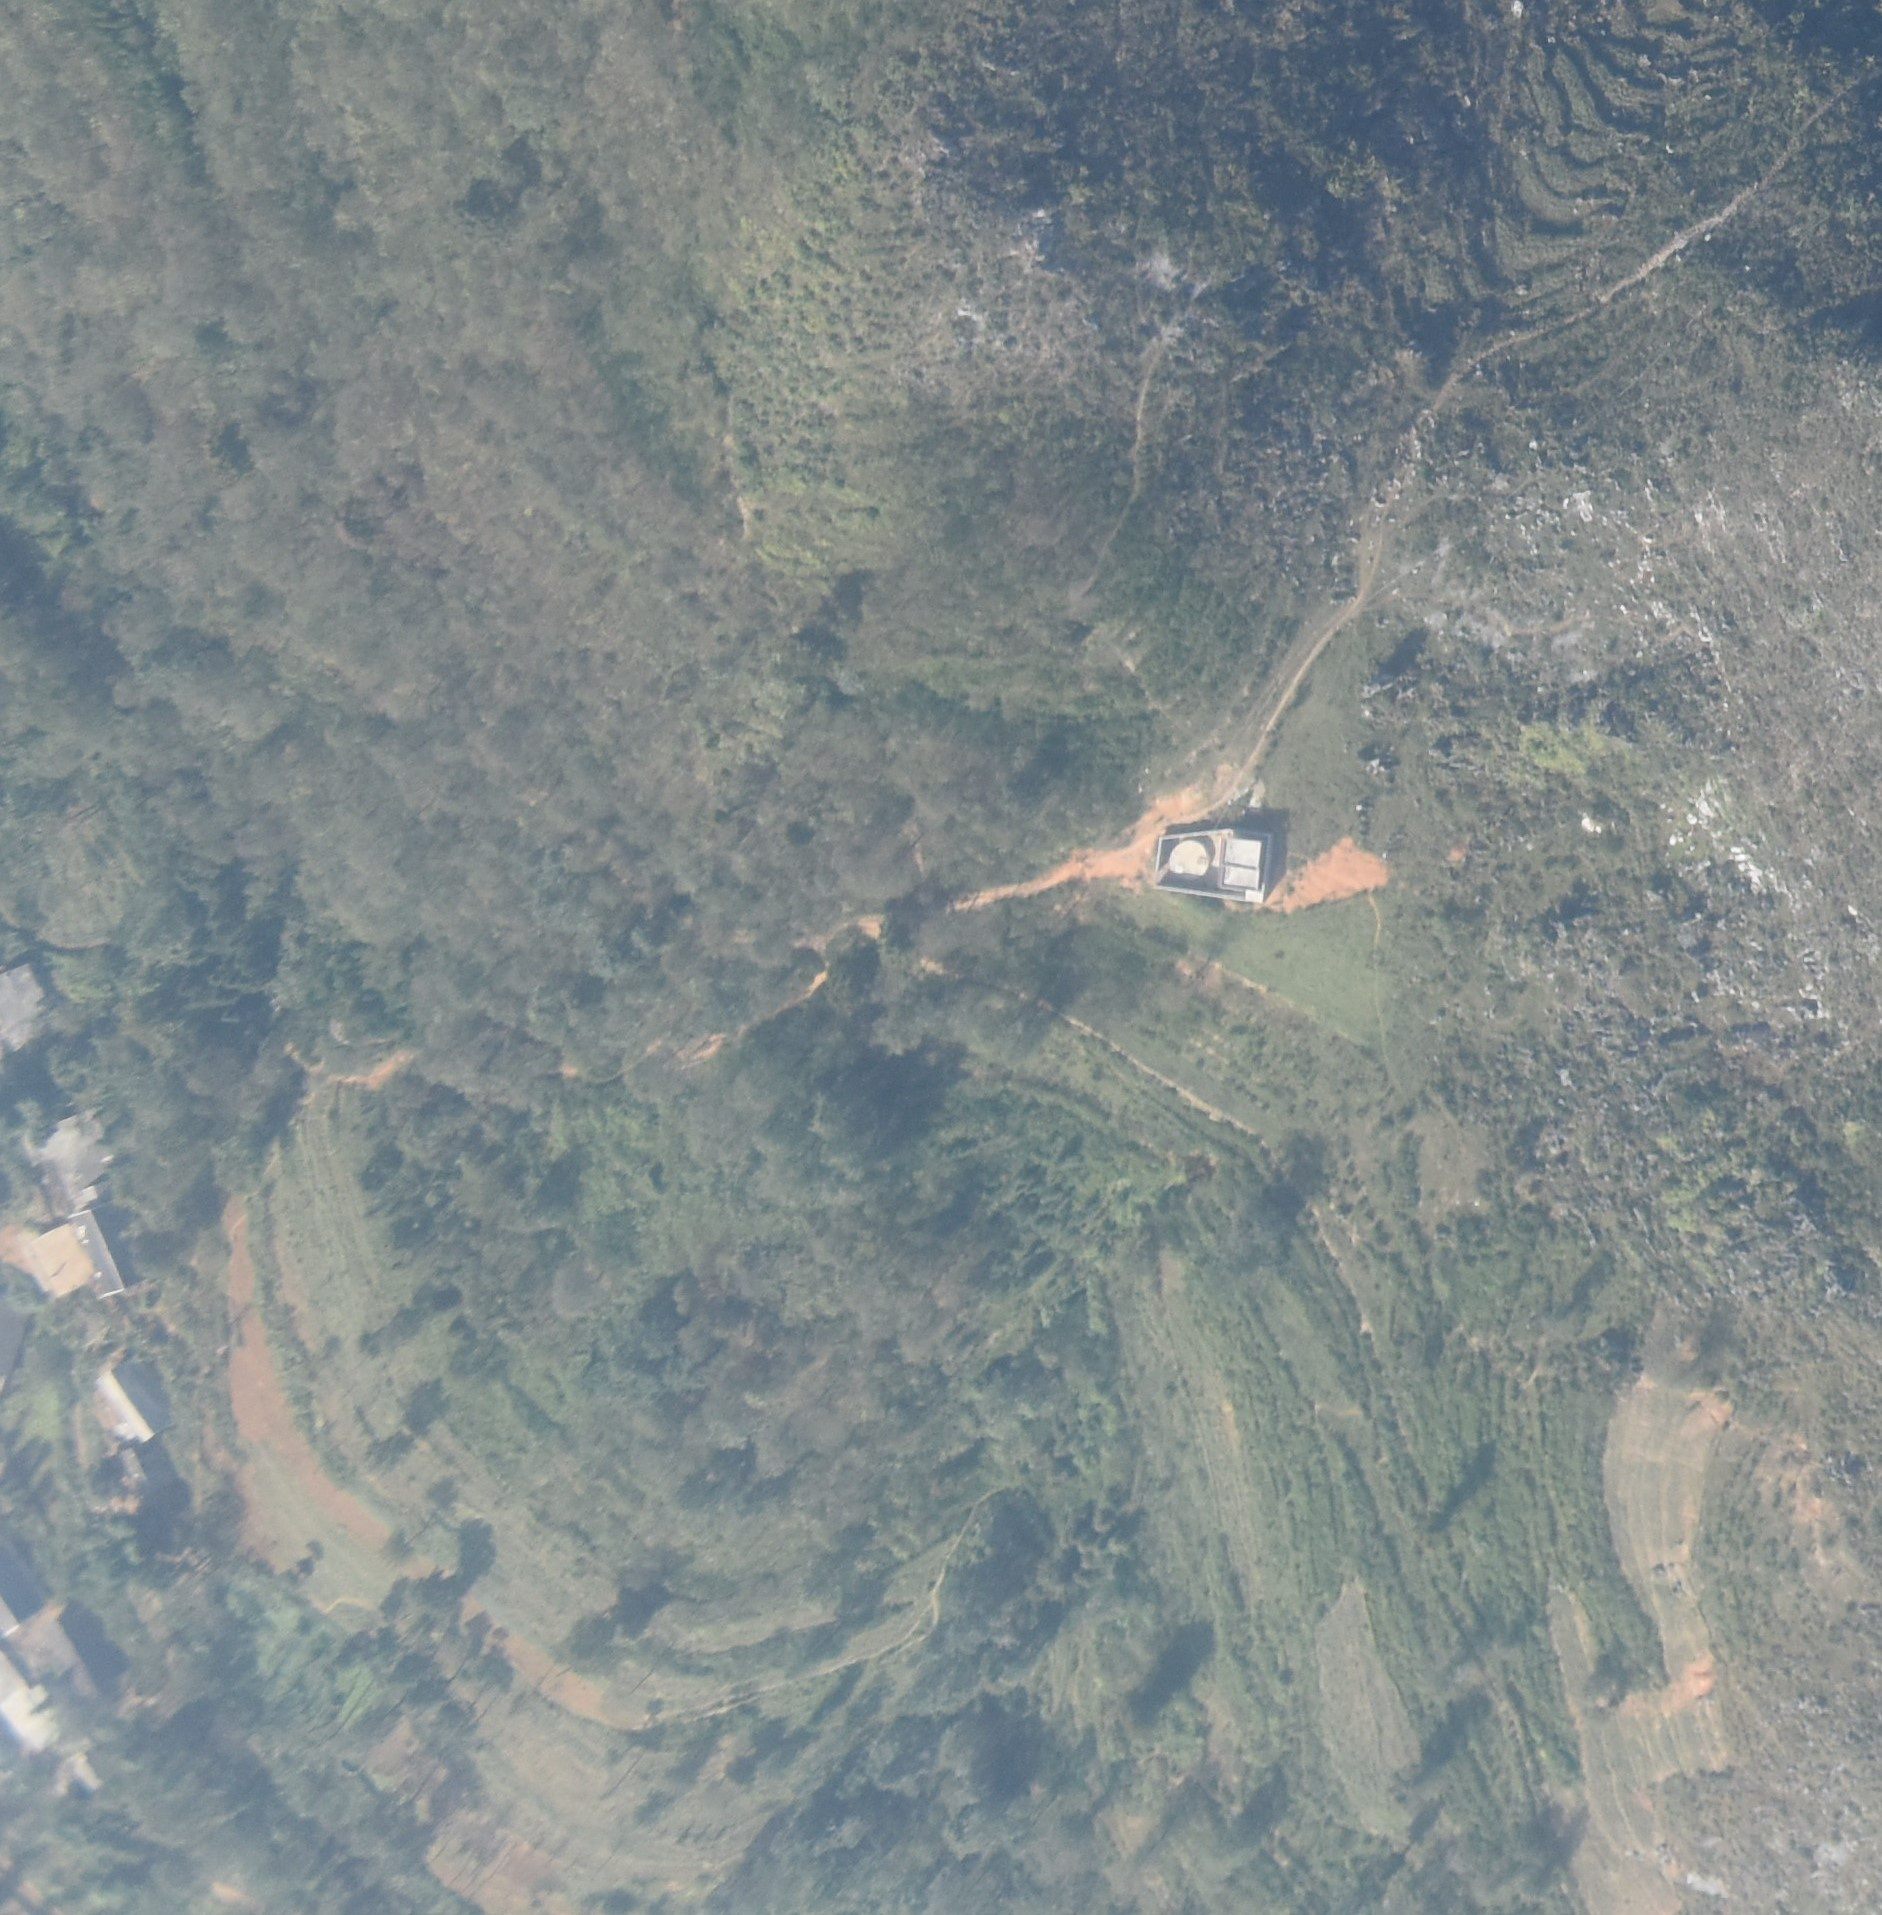building: (9, 1600, 121, 1755), (36, 1107, 129, 1224), (22, 1208, 129, 1300), (84, 1362, 165, 1446), (2, 960, 52, 1050), (1224, 834, 1265, 867), (1222, 862, 1262, 893)
well: (1168, 836, 1212, 883)
